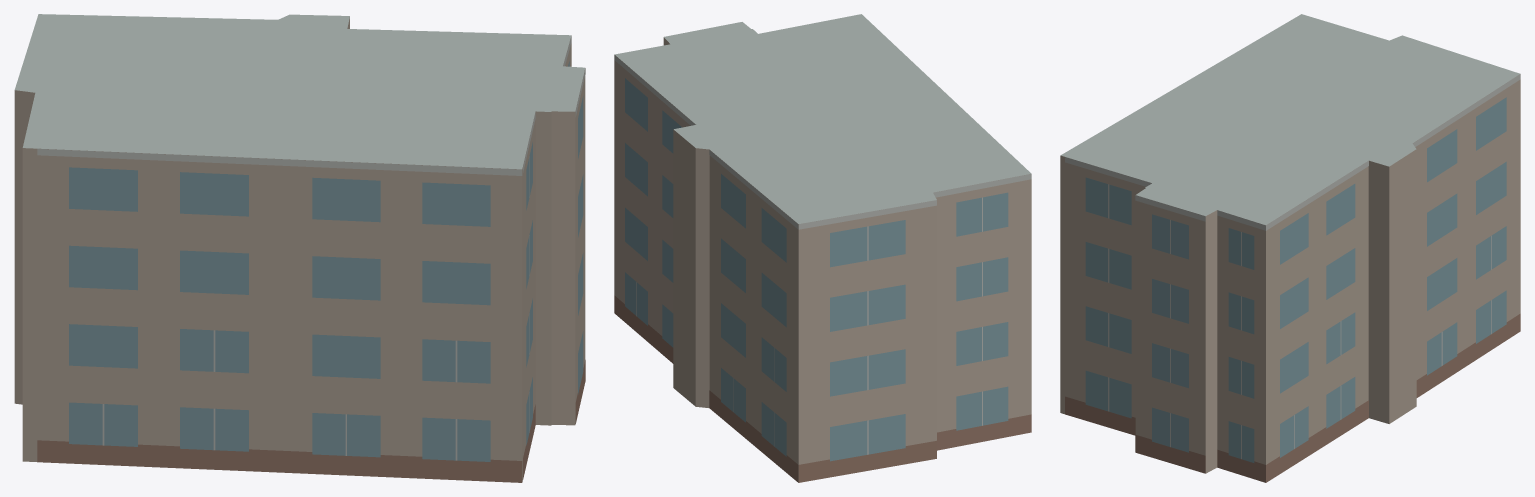
The model's file is survey-upis-32901422.glb.
The picture shows the model from 3 angles, left to right: view 1: azimuth 30°, elevation 25°; view 2: azimuth 150°, elevation 25°; view 3: azimuth 270°, elevation 25°; orthographic projection. The views are drawn at different scales.
Parts seen in each view (by area): view 1: survey-upis-32901422.tmp; view 2: survey-upis-32901422.tmp; view 3: survey-upis-32901422.tmp.
Boxes of the visible parts, bbox=[...] form: survey-upis-32901422.tmp: bbox=[14, 14, 585, 482]; survey-upis-32901422.tmp: bbox=[614, 14, 1031, 482]; survey-upis-32901422.tmp: bbox=[1060, 14, 1520, 482].
Size of the model in its own units: 20.07 by 11.4 by 18.47.
